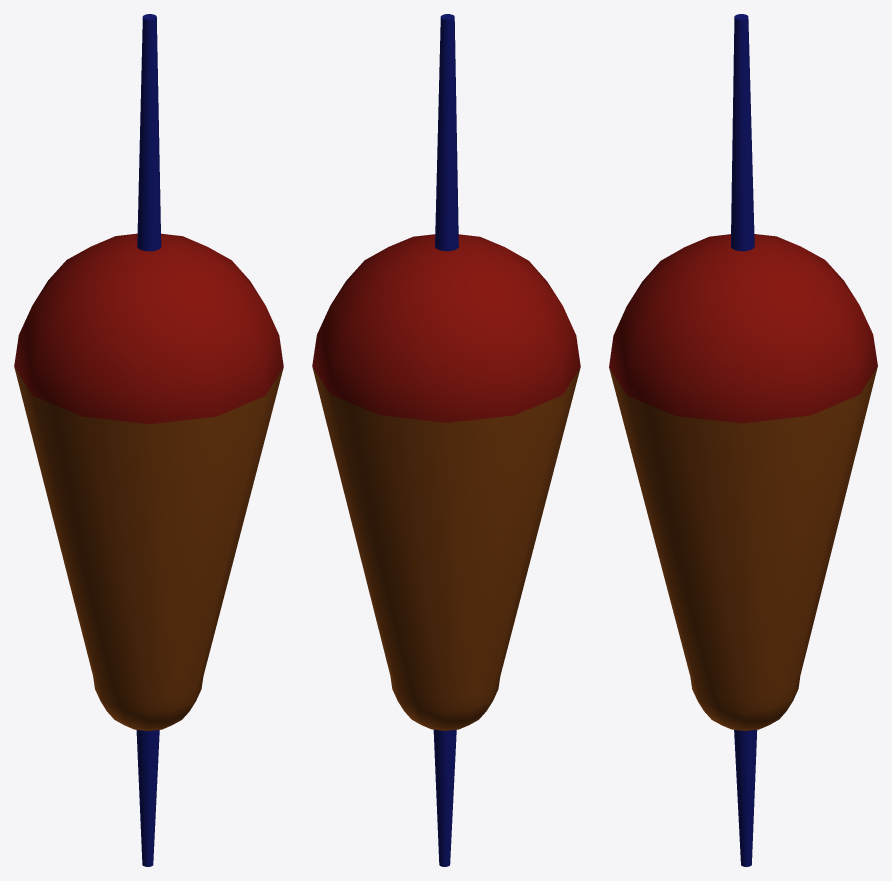
File: float.fbx
3 renders of one model, left to right at view 1: azimuth 30°, elevation 25°; view 2: azimuth 150°, elevation 25°; view 3: azimuth 270°, elevation 25°, orthographic.
Parts seen in each view (by area): view 1: float1; view 2: float1; view 3: float1.
Boxes of the visible parts, box(x1,y1,x2,y2) form: float1: box(14, 14, 283, 866); float1: box(312, 14, 580, 866); float1: box(609, 14, 877, 866).
Bounding box in the file's own units: 7.01 × 24.36 × 7.01.
